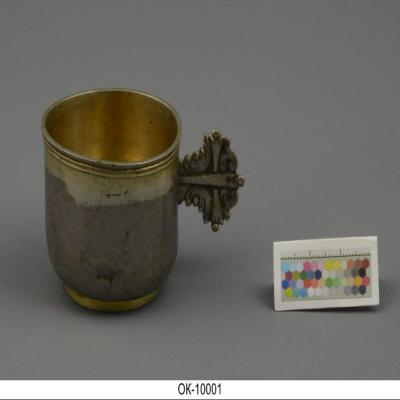dpi: (41, 88, 242, 314)
